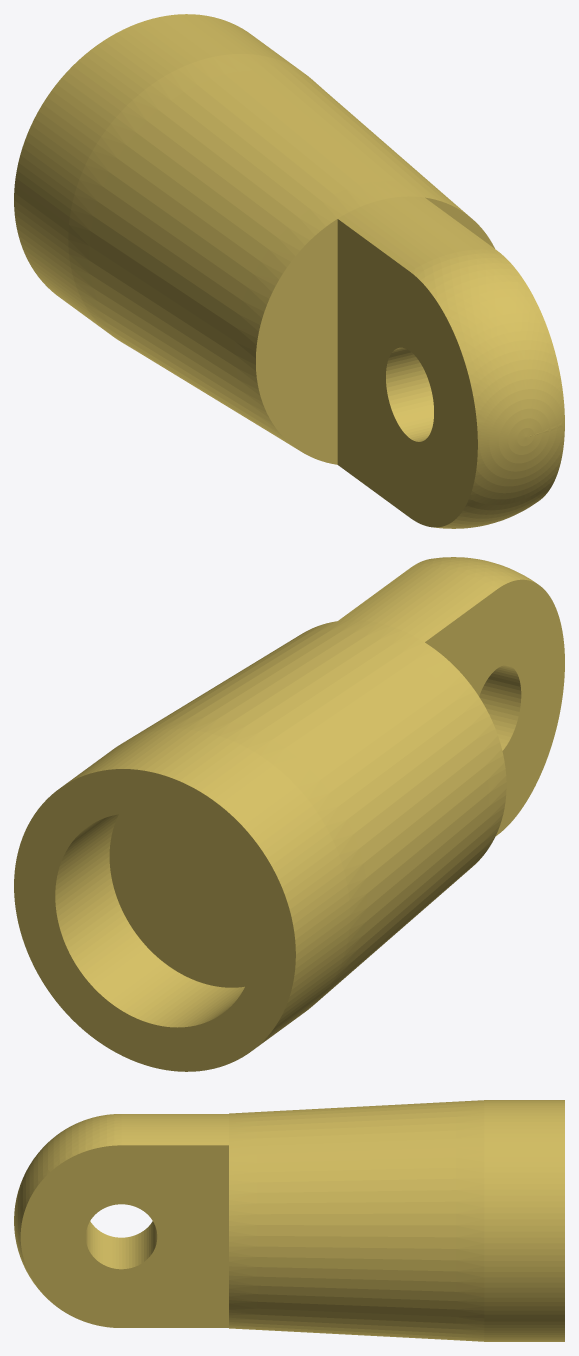
3 views of the same model, one above another, from view 1: azimuth 30°, elevation 25°; view 2: azimuth 150°, elevation 25°; view 3: azimuth 270°, elevation 25° (orthographic). The views are drawn at different scales.
Parts seen in each view (by area): view 1: node; view 2: node; view 3: node.
Part boxes in pixels (left/top/right/bottom): node: left=14, top=14, right=564, bottom=528; node: left=14, top=557, right=564, bottom=1071; node: left=14, top=1100, right=564, bottom=1341.
Size of the model in its own units: 0.071 by 0.071 by 0.1618.
